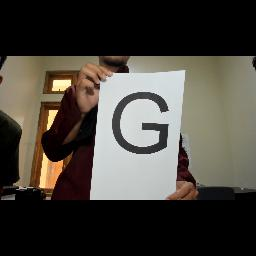g: (108, 88, 170, 158)
